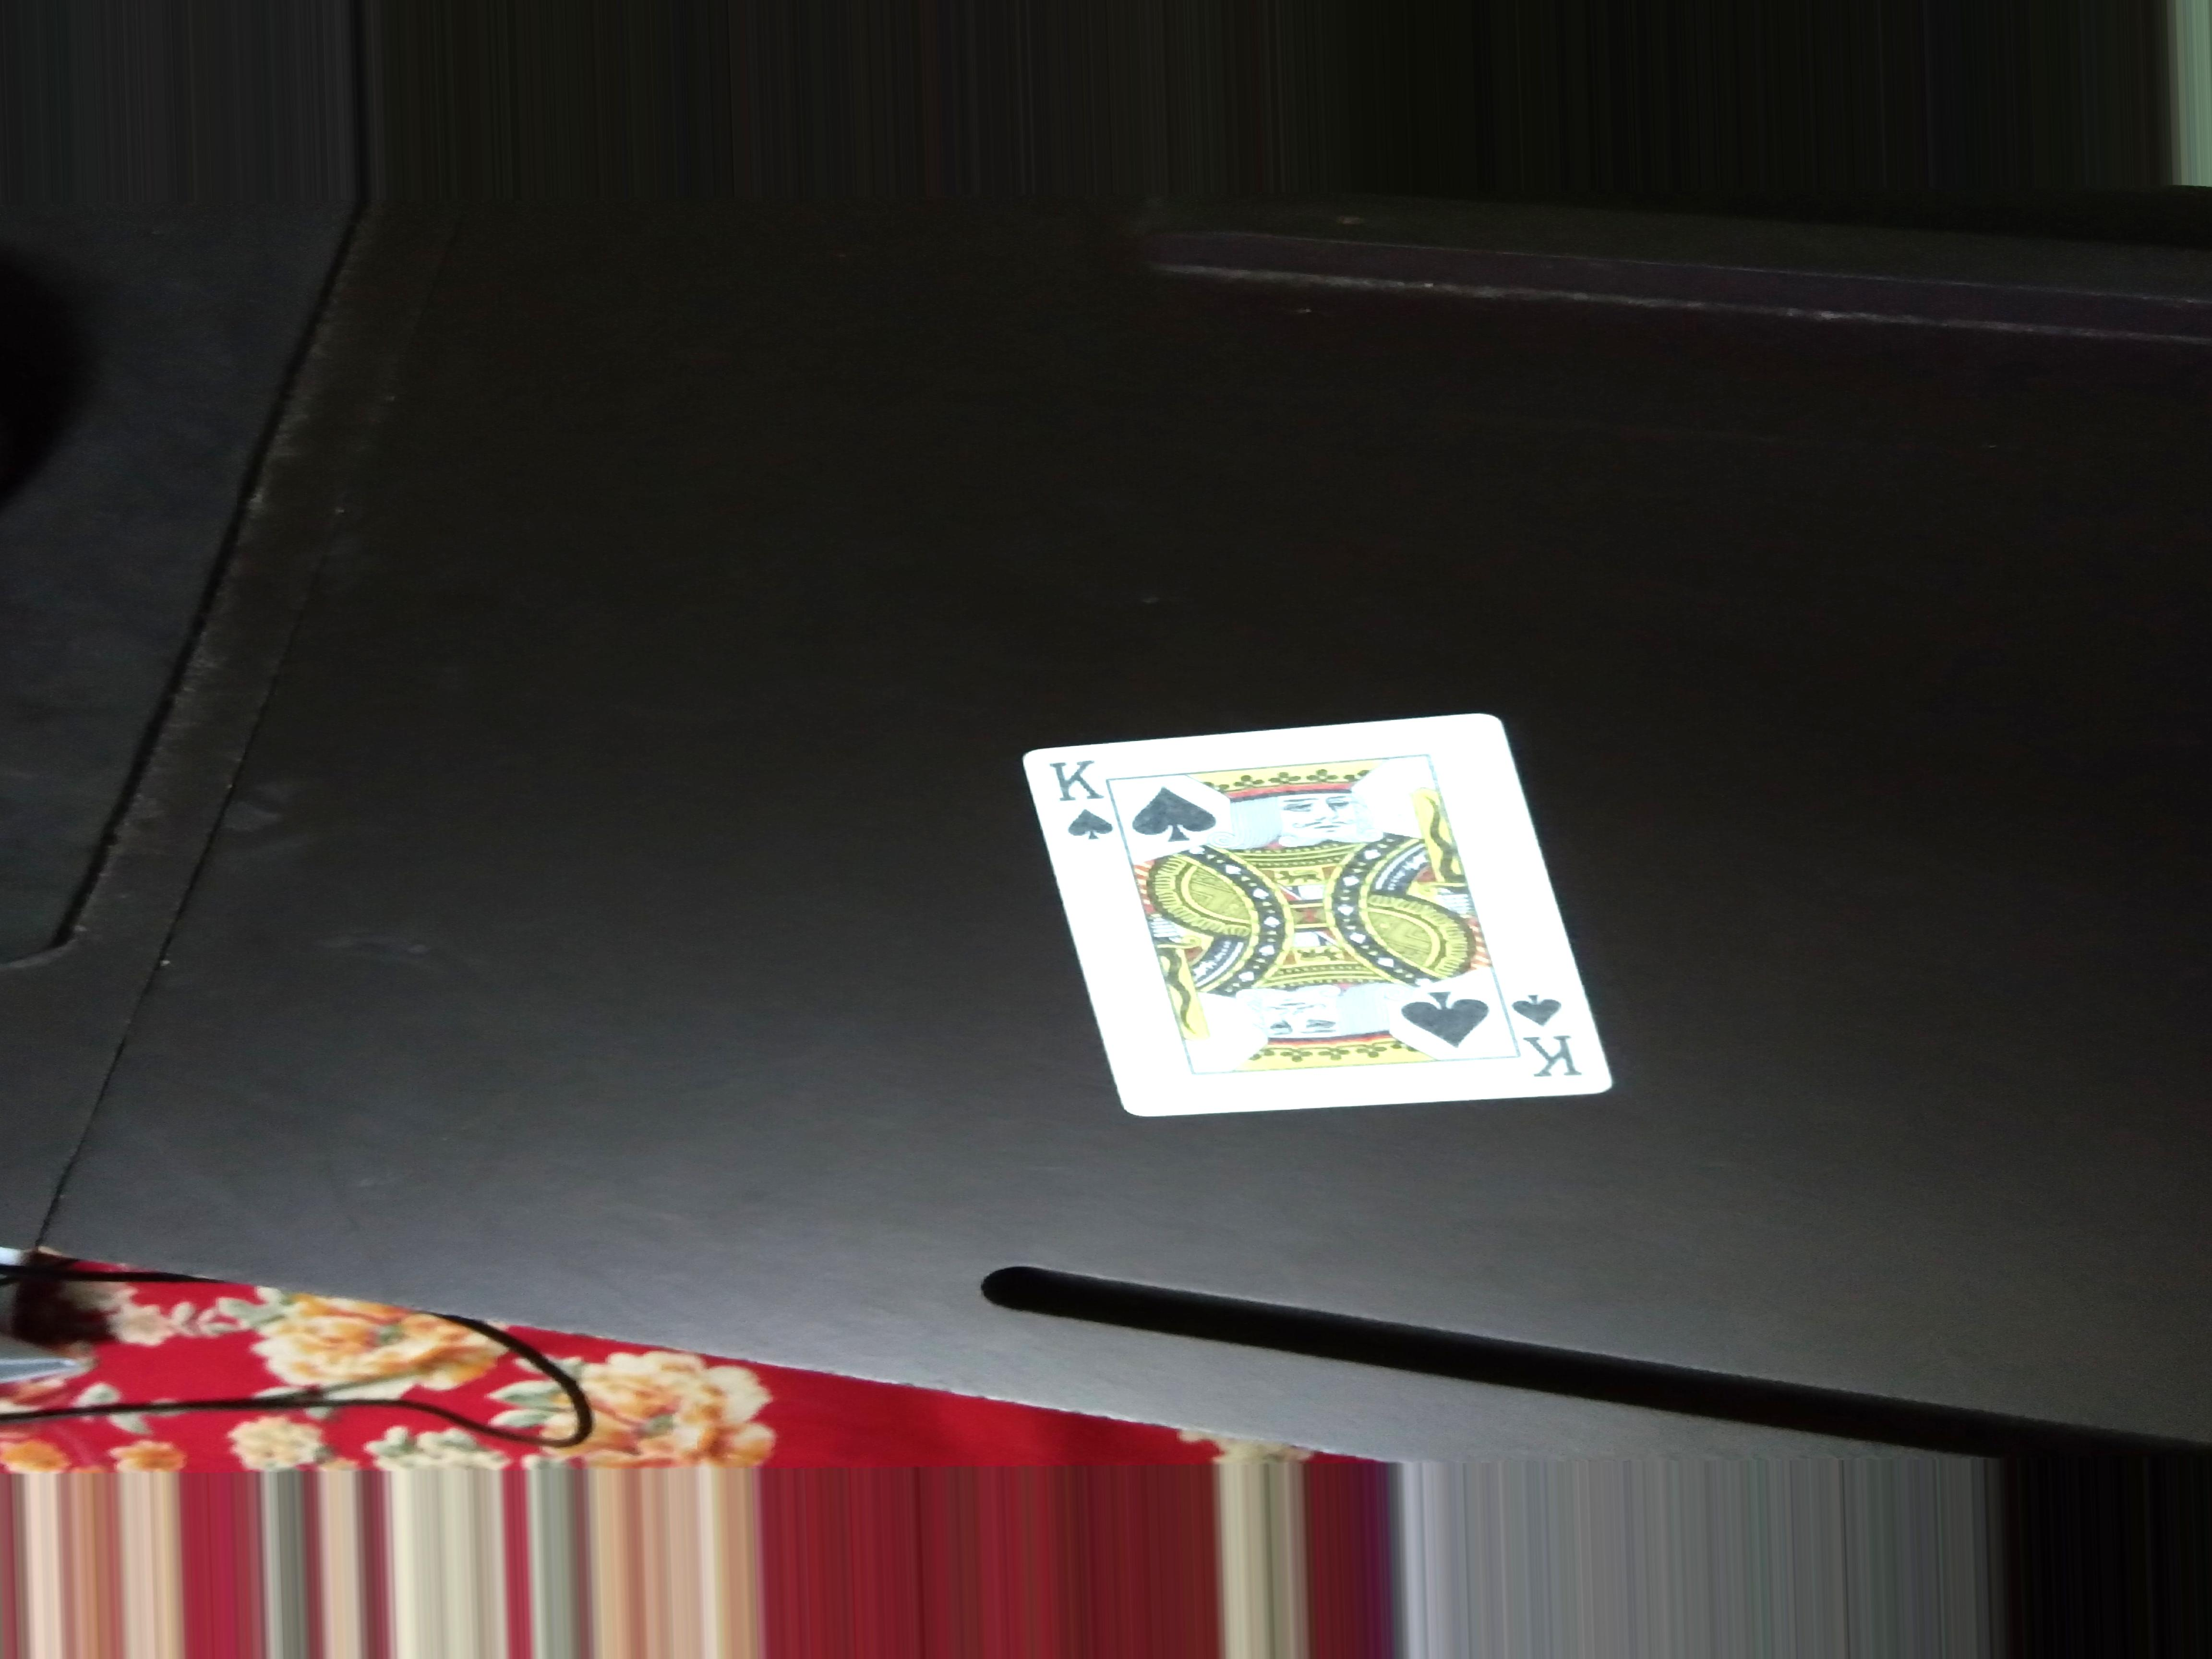KS: (1045, 746, 1113, 856)
